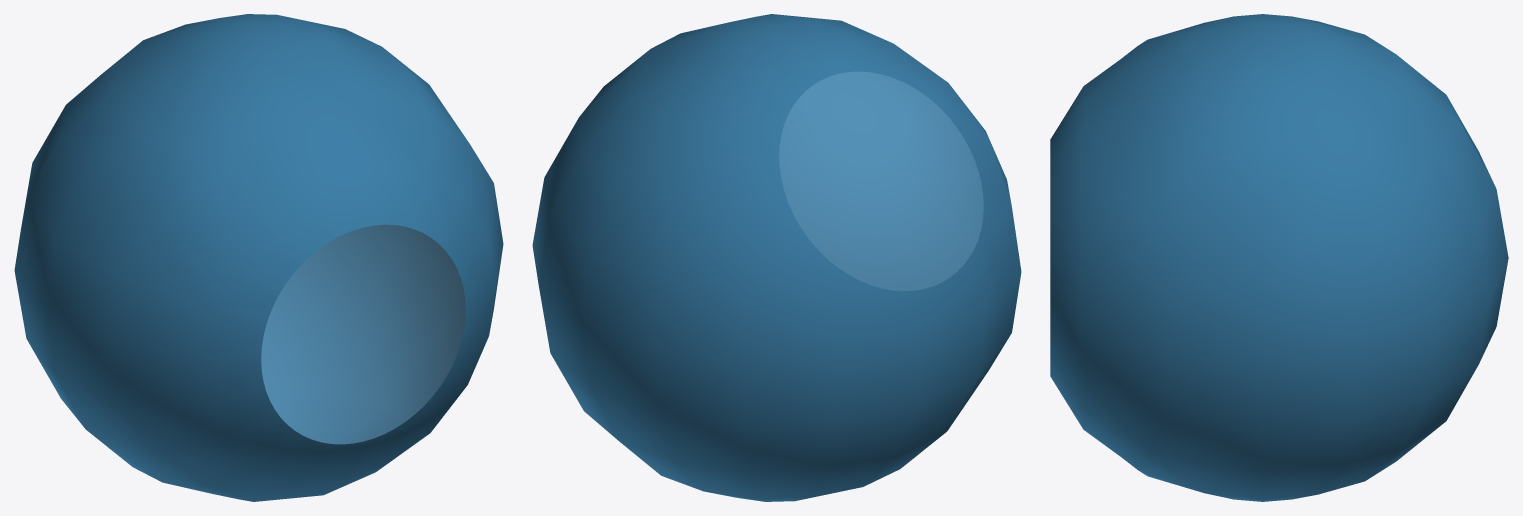
The model's file is InsidePortal_SkySphere.fbx.
The picture shows the model from 3 angles, left to right: view 1: azimuth 30°, elevation 25°; view 2: azimuth 150°, elevation 25°; view 3: azimuth 270°, elevation 25°; orthographic projection.
Parts seen in each view (by area): view 1: InsidePortal_SkySphere; view 2: InsidePortal_SkySphere; view 3: InsidePortal_SkySphere.
Part boxes in pixels (x1=…): InsidePortal_SkySphere: x1=14, y1=14, x2=503, y2=501; InsidePortal_SkySphere: x1=532, y1=14, x2=1021, y2=501; InsidePortal_SkySphere: x1=1050, y1=14, x2=1508, y2=501.
Bounding box in the file's own units: 11.25 × 11.25 × 10.49.
